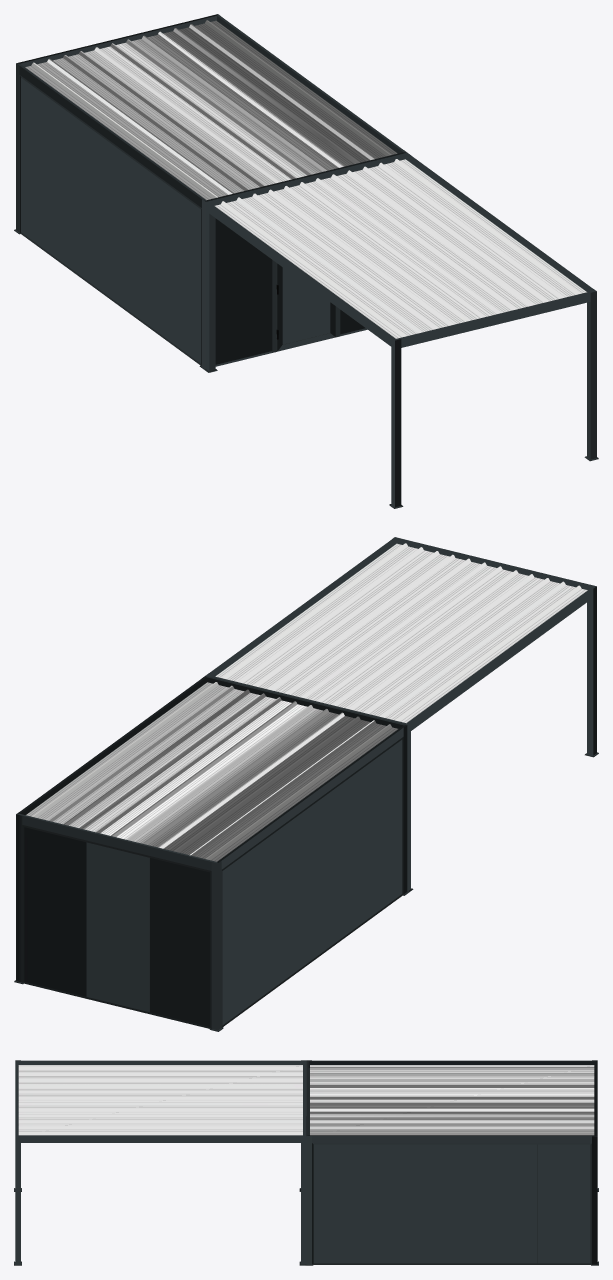
The model's file is 13443_carport5x3abri5x3.fbx.
The picture shows the model from 3 angles, top to bottom: view 1: azimuth 30°, elevation 25°; view 2: azimuth 150°, elevation 25°; view 3: azimuth 270°, elevation 25°; orthographic projection. The views are drawn at different scales.
Parts seen in each view (by area): view 1: priximbattable_net_abris_de_voiture_13443_module_carport_abr, folha, porta; view 2: priximbattable_net_abris_de_voiture_13443_module_carport_abr; view 3: priximbattable_net_abris_de_voiture_13443_module_carport_abr.
Boxes of the visible parts, bbox=[...] form: priximbattable_net_abris_de_voiture_13443_module_carport_abr: bbox=[14, 14, 598, 508]; folha: bbox=[276, 263, 335, 351]; porta: bbox=[272, 260, 340, 352]; priximbattable_net_abris_de_voiture_13443_module_carport_abr: bbox=[14, 537, 598, 1031]; priximbattable_net_abris_de_voiture_13443_module_carport_abr: bbox=[14, 1060, 598, 1265].
Size of the model in its own units: 324 by 254 by 1044.
Materials: 1 (1 with a texture image).
